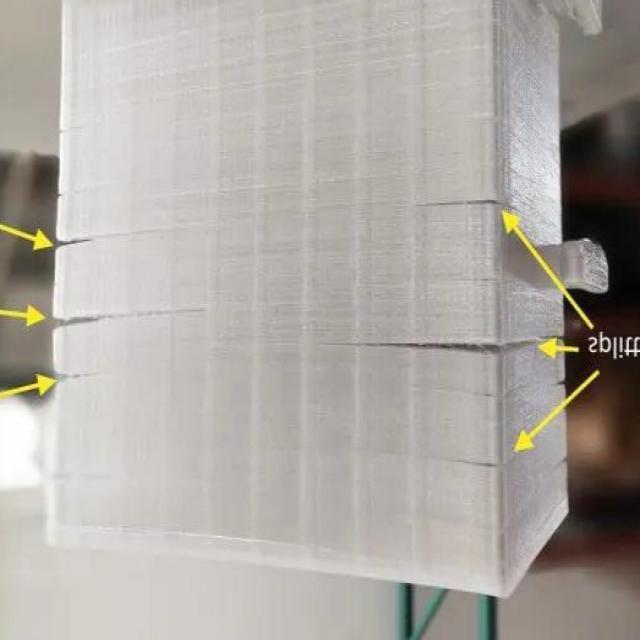Warping: (424, 328, 512, 361), (51, 304, 126, 338), (49, 366, 103, 394), (56, 228, 115, 252), (465, 191, 508, 217)
